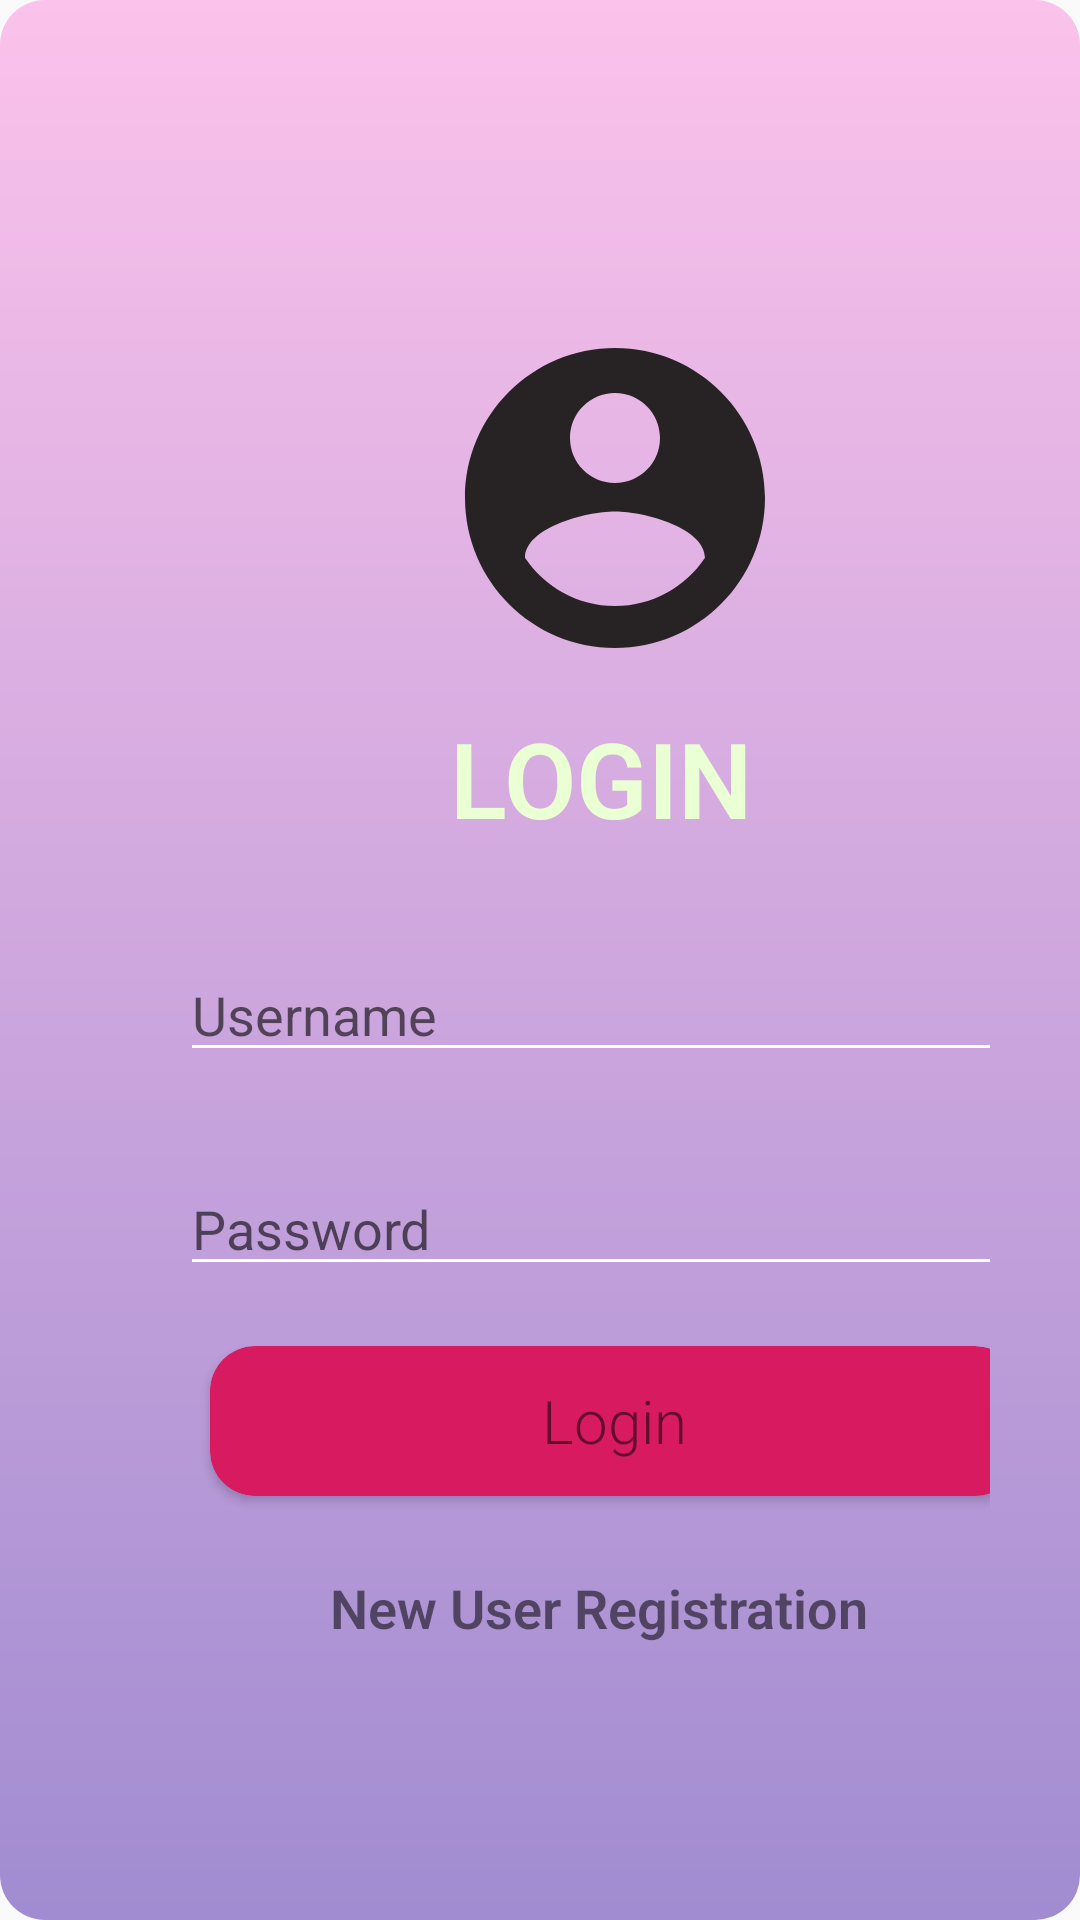

Icon click points for this 1080×1920 phone screenshot, format (x,y):
account circle: (615,498)
